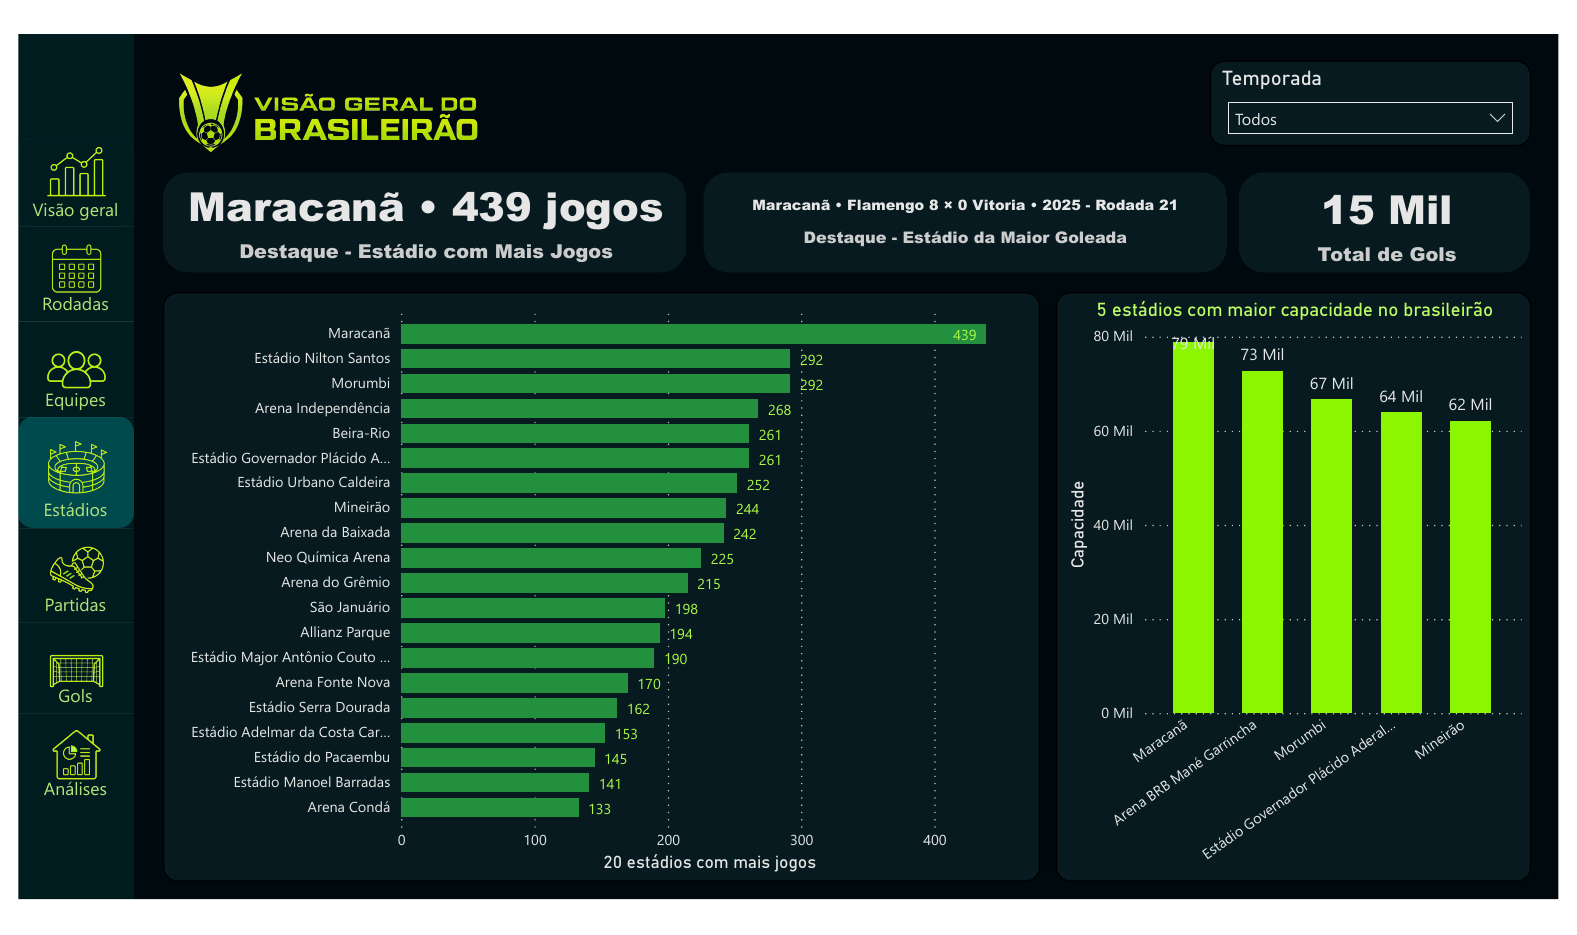

Layout of this report page (visuals, bound fields, positions):
{"tool":"powerbi","page":{"name":"Estádios","canvas":[1280,720],"ordinal":3},"visuals":[{"type":"shape","box":[0,0,95.8,719.3],"z":0},{"type":"shape","box":[95.8,0,1184.2,719.3],"z":1000},{"type":"actionButton","box":[0,86.2,95.8,73.4],"z":2000},{"type":"actionButton","box":[0,159.6,95.8,78.7],"z":3000},{"type":"actionButton","box":[0,238.3,95.8,79.8],"z":4000},{"type":"actionButton","box":[0,318.1,95.8,91.5],"z":5000},{"type":"actionButton","box":[0,409.6,95.8,78.7],"z":6000},{"type":"actionButton","box":[0,488.4,95.8,75.5],"z":7000},{"type":"actionButton","box":[0,563.9,95.8,77.7],"z":8000},{"type":"image","box":[105.8,10,300,114.9],"z":9000},{"type":"image","box":[12.8,79.8,70.2,70.2],"z":10000},{"type":"image","box":[12.8,159.6,70.2,70.2],"z":11000},{"type":"image","box":[12.8,563.9,70.2,70.2],"z":12000},{"type":"image","box":[12.8,324.5,70.2,70.2],"z":13000},{"type":"image","box":[12.8,409.6,70.2,70.2],"z":14000},{"type":"image","box":[12.6,494.1,70,70],"z":15000},{"type":"image","box":[12.8,243.7,70.2,70.2],"z":16000},{"type":"shape","box":[120.4,115.2,435.2,83.3],"z":17000},{"type":"card","fields":{"Values":["warehouse fact_match.Destaque - Estádio com Mais Jogos"]},"box":[128.6,115.2,419.8,79.2],"z":18000},{"type":"slicer","title":"Temporada","fields":{"Values":["warehouse dim_season.season_key"]},"box":[990.2,21.9,266.8,70.9],"z":19000},{"type":"clusteredBarChart","fields":{"Category":["warehouse dim_venue.venue_name"],"Y":["warehouse fact_match.Jogos no Estádio"]},"box":[120.5,213.8,728.9,489.8],"z":20000},{"type":"shape","box":[1014.5,115.2,241.8,83.3],"z":21000},{"type":"card","fields":{"Values":["warehouse fact_match.Total de Gols"]},"box":[1018.6,117.3,237.7,79.2],"z":22000},{"type":"shape","box":[569,115.2,435.2,83.3],"z":23000},{"type":"card","fields":{"Values":["warehouse fact_match.Destaque - Estádio da Maior Goleada"]},"box":[577.2,115.2,419.8,79.2],"z":24000},{"type":"columnChart","title":"5 estádios com maior capacidade no brasileirão","fields":{"Category":["warehouse dim_venue.venue_name"],"Y":["Sum(warehouse dim_venue.venue_capacity)"]},"box":[862.1,213.8,394.6,489.8],"z":25000}]}

Visuals, with their boxes on the page's 1280x720 design canvas (x1, y1, x2, y2). These are canvas units, not pixel positions in the 1577x935 screenshot, which may show the page scaled, cropped or inside an application window:
shape: [0, 0, 96, 719]
shape: [96, 0, 1280, 719]
actionButton: [0, 86, 96, 160]
actionButton: [0, 160, 96, 238]
actionButton: [0, 238, 96, 318]
actionButton: [0, 318, 96, 410]
actionButton: [0, 410, 96, 488]
actionButton: [0, 488, 96, 564]
actionButton: [0, 564, 96, 642]
image: [106, 10, 406, 125]
image: [13, 80, 83, 150]
image: [13, 160, 83, 230]
image: [13, 564, 83, 634]
image: [13, 324, 83, 395]
image: [13, 410, 83, 480]
image: [13, 494, 83, 564]
image: [13, 244, 83, 314]
shape: [120, 115, 556, 198]
card - warehouse fact_match.Destaque - Estádio com Mais Jogos: [129, 115, 548, 194]
"Temporada" slicer: [990, 22, 1257, 93]
clusteredBarChart - warehouse dim_venue.venue_name x warehouse fact_match.Jogos no Estádio: [120, 214, 849, 704]
shape: [1014, 115, 1256, 198]
card - warehouse fact_match.Total de Gols: [1019, 117, 1256, 196]
shape: [569, 115, 1004, 198]
card - warehouse fact_match.Destaque - Estádio da Maior Goleada: [577, 115, 997, 194]
"5 estádios com maior capacidade no brasileirão" columnChart: [862, 214, 1257, 704]
